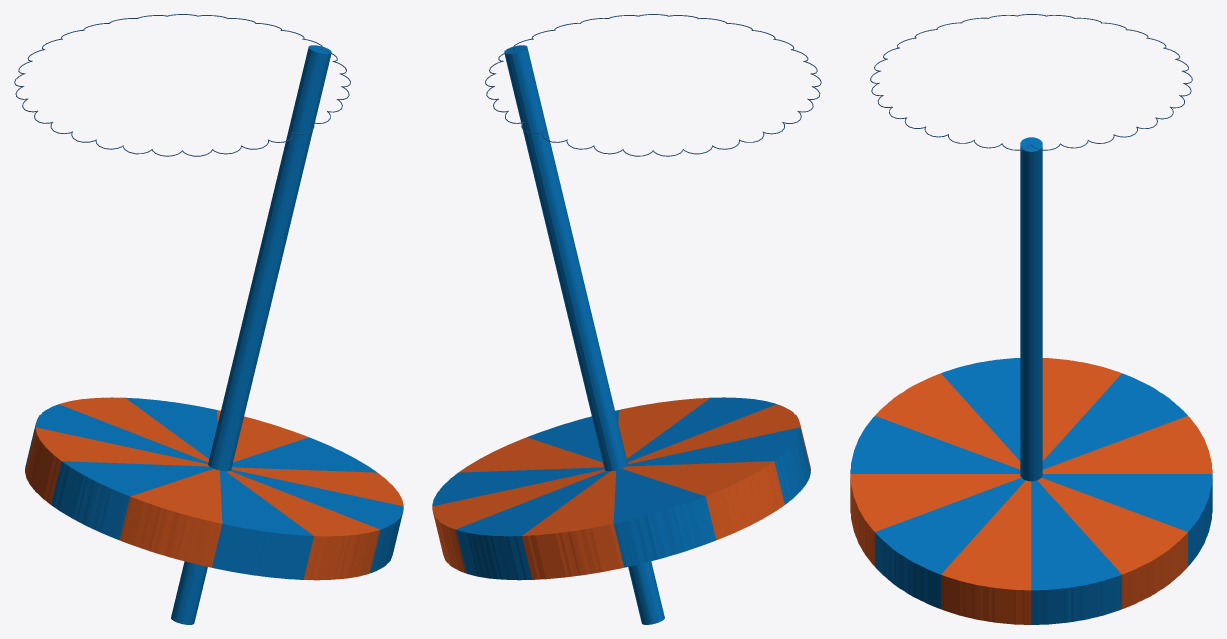
The model's file is spinning-top-trajectory.glb.
The picture shows the model from 3 angles, left to right: view 1: azimuth 30°, elevation 25°; view 2: azimuth 150°, elevation 25°; view 3: azimuth 270°, elevation 25°; orthographic projection. The views are drawn at different scales.
Parts seen in each view (by area): view 1: RotBody_2, Trajectory T; view 2: RotBody_2, Trajectory T; view 3: RotBody_2, Trajectory T.
Boxes of the visible parts, x1=… form: RotBody_2: x1=25, y1=45, x2=403, y2=624; Trajectory T: x1=14, y1=14, x2=350, y2=156; RotBody_2: x1=432, y1=45, x2=810, y2=624; Trajectory T: x1=485, y1=14, x2=821, y2=156; RotBody_2: x1=850, y1=137, x2=1212, y2=624; Trajectory T: x1=870, y1=14, x2=1192, y2=150.
Bounding box in the file's own units: 0.0833 × 0.1269 × 0.08.
